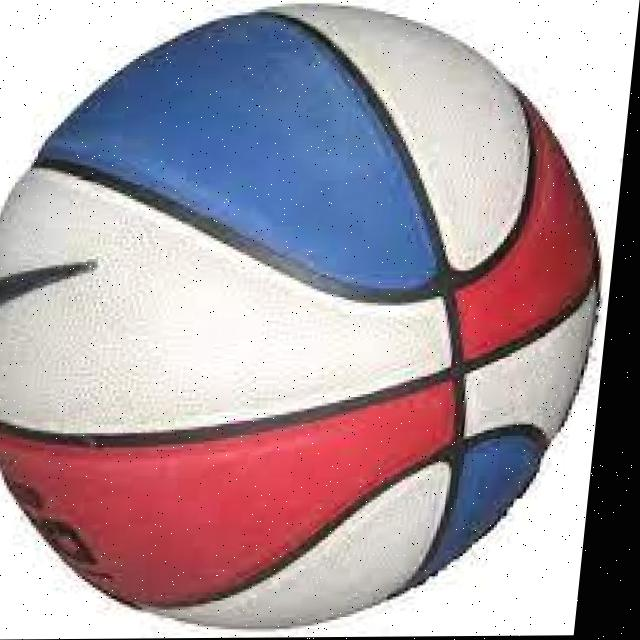Basketball: (0, 4, 629, 632)
